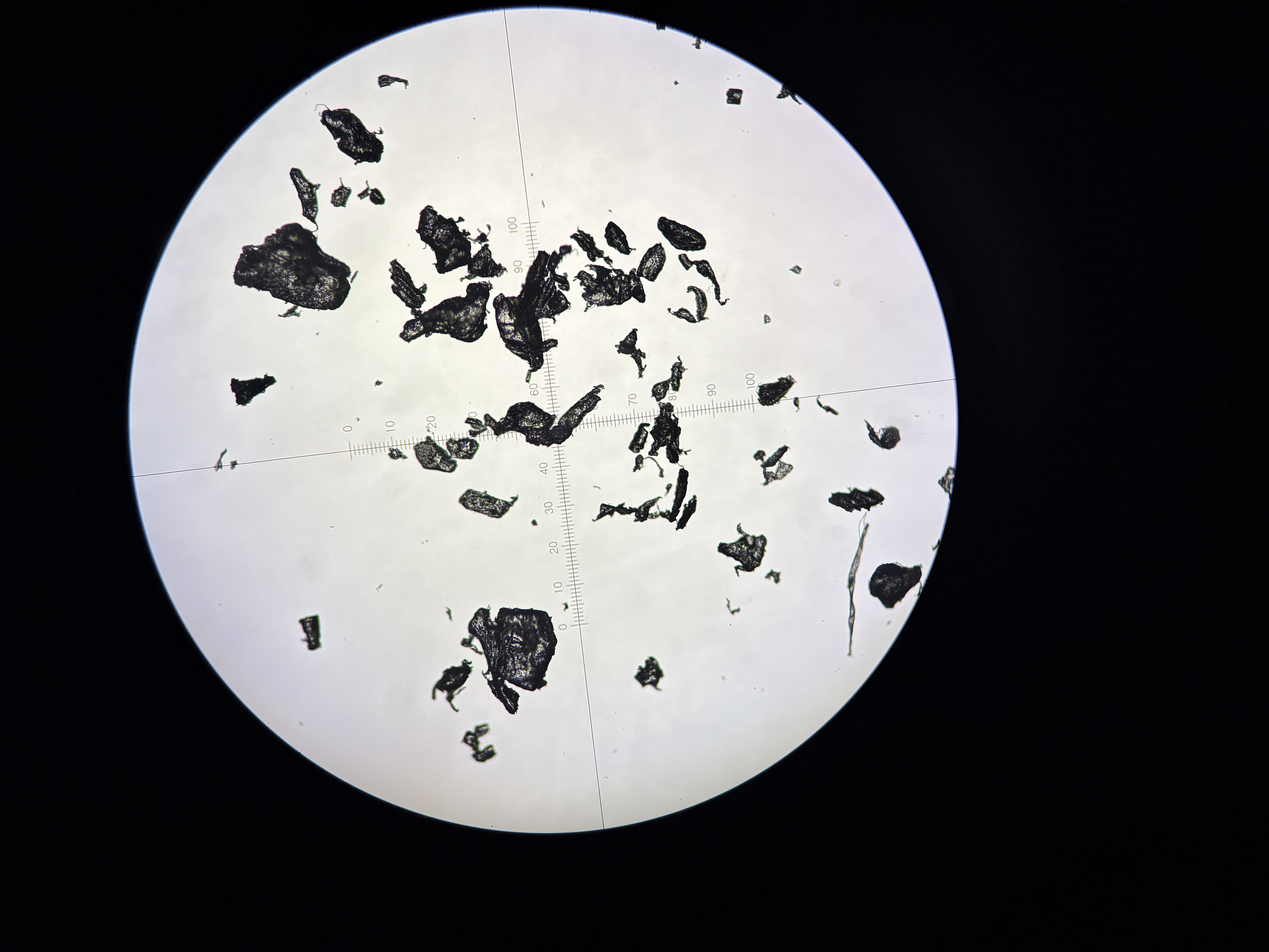microplastic: (231, 222, 351, 311), (467, 603, 558, 715), (418, 280, 494, 343), (313, 103, 385, 166), (492, 292, 545, 372), (517, 250, 572, 325), (415, 204, 472, 274), (545, 383, 606, 448), (846, 511, 870, 657), (483, 401, 559, 447), (572, 264, 639, 313), (570, 226, 628, 275), (717, 522, 768, 577), (678, 253, 730, 306), (868, 561, 924, 608), (431, 658, 474, 712), (289, 167, 322, 233), (457, 488, 520, 519), (388, 258, 427, 308), (648, 402, 682, 457), (656, 216, 707, 252), (413, 435, 458, 474), (229, 372, 279, 407), (752, 449, 794, 487), (460, 723, 498, 763), (467, 241, 508, 278), (755, 374, 798, 406), (665, 413, 691, 465), (668, 463, 689, 523), (636, 242, 667, 282), (614, 344, 647, 380), (863, 419, 901, 450), (604, 221, 637, 256), (633, 656, 665, 692), (297, 613, 325, 652), (591, 502, 638, 523), (686, 286, 710, 323), (675, 494, 698, 532), (547, 244, 579, 271), (446, 436, 480, 460), (633, 496, 663, 523), (632, 454, 665, 478), (759, 444, 792, 468), (398, 318, 428, 344), (628, 422, 651, 453), (670, 355, 689, 392), (937, 466, 956, 502), (330, 177, 352, 208), (629, 268, 647, 304), (550, 262, 571, 292), (617, 328, 639, 355), (776, 83, 802, 105), (377, 74, 411, 90), (463, 417, 490, 437), (651, 377, 672, 402), (461, 634, 484, 656), (815, 396, 840, 416), (465, 224, 491, 243), (667, 307, 697, 323), (656, 502, 678, 523), (213, 447, 228, 473), (277, 304, 304, 318), (356, 179, 371, 201), (725, 88, 744, 105), (387, 447, 409, 461), (369, 187, 386, 205), (725, 597, 741, 615), (764, 568, 782, 584), (542, 338, 559, 354), (443, 606, 454, 623), (459, 273, 478, 282), (409, 308, 423, 319), (931, 538, 942, 551), (692, 36, 702, 50), (350, 269, 359, 284), (789, 265, 803, 274), (418, 282, 428, 294), (459, 228, 472, 237), (793, 397, 800, 413), (655, 21, 666, 31), (229, 459, 239, 470), (648, 511, 660, 519), (763, 314, 772, 324), (525, 369, 531, 383), (833, 278, 842, 287), (561, 602, 569, 612), (374, 379, 384, 387), (375, 583, 383, 592), (424, 330, 433, 338), (531, 519, 538, 527), (673, 79, 680, 86), (425, 426, 432, 433), (592, 485, 601, 490), (541, 198, 545, 209), (563, 272, 569, 279), (607, 209, 613, 214), (356, 417, 361, 422), (721, 676, 726, 680), (886, 621, 891, 625), (530, 172, 534, 177), (771, 212, 776, 216), (316, 332, 320, 336), (304, 91, 308, 95), (729, 622, 732, 626)
